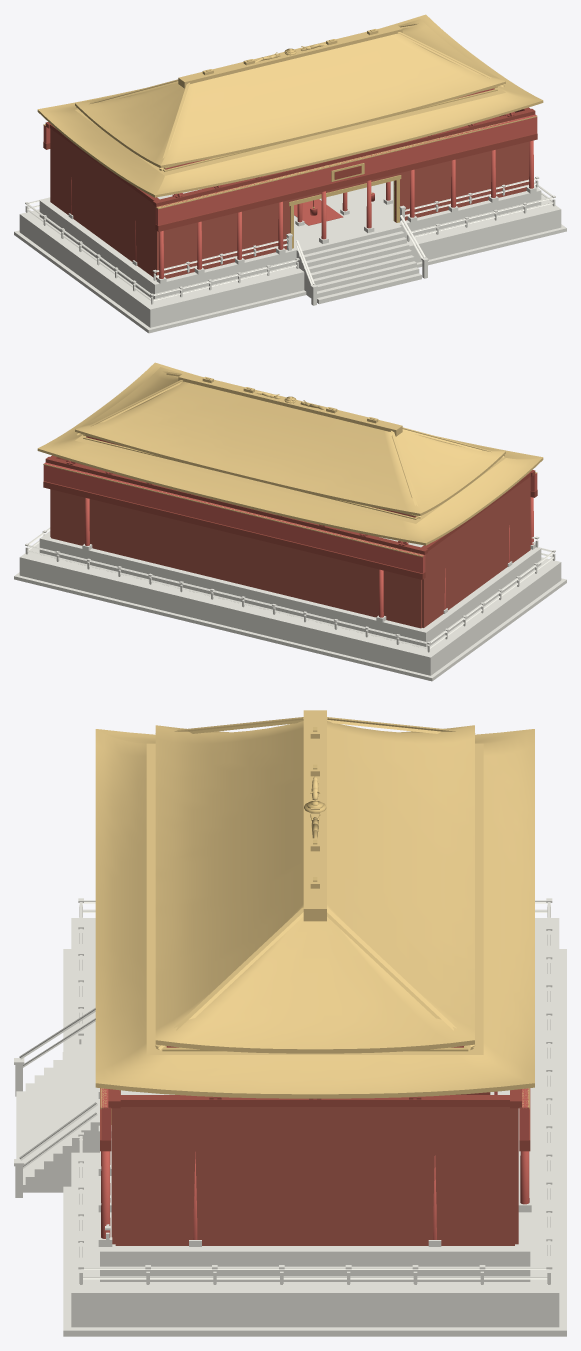
The model's file is lib_dien_dai.glb.
3 views of the same model, one above another, from view 1: azimuth 30°, elevation 25°; view 2: azimuth 150°, elevation 25°; view 3: azimuth 270°, elevation 25° (orthographic). The views are drawn at different scales.
Visible parts, largest first — view 1: dien_dai_dai; view 2: dien_dai_dai; view 3: dien_dai_dai.
Part boxes in pixels (x1,y1,x2,y2): dien_dai_dai: (14, 14, 566, 333); dien_dai_dai: (14, 362, 566, 681); dien_dai_dai: (14, 710, 566, 1336).
Bounding box in the file's own units: 40.7 × 17.1 × 24.93.
Materials: 1 (1 with a texture image).
